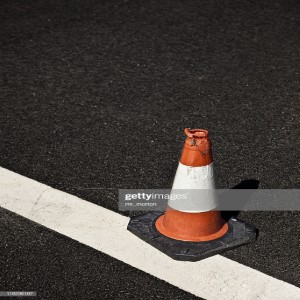traffic cone: (127, 128, 258, 262)
